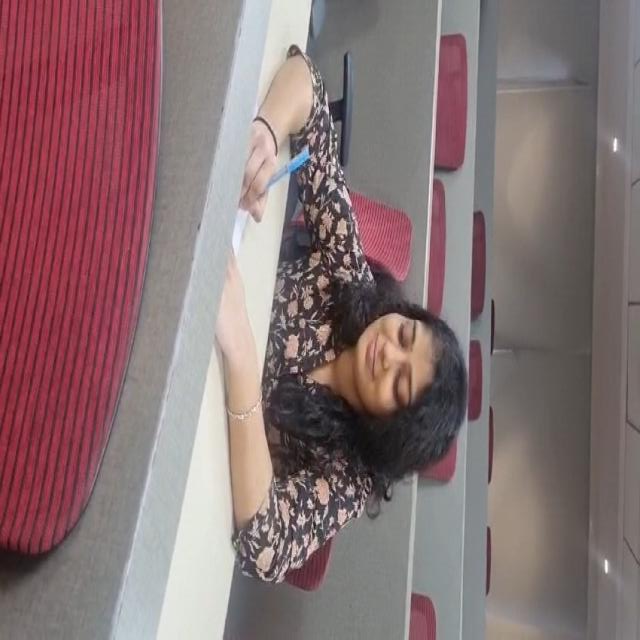non-cheating: (74, 128, 603, 443)
